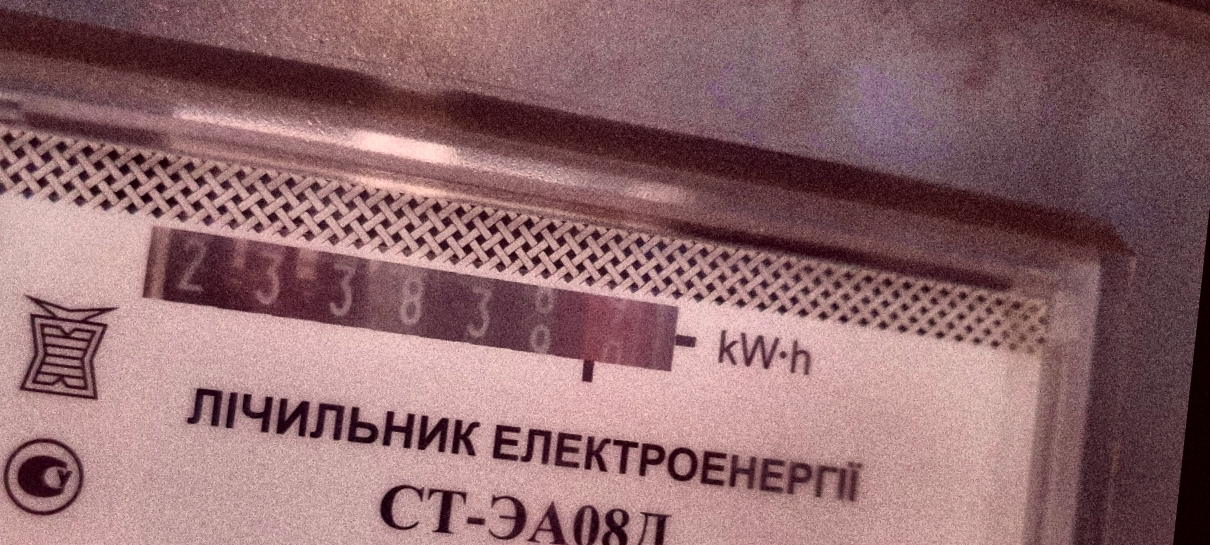0: (597, 334, 626, 370)
2: (170, 231, 215, 296)
3: (319, 255, 362, 322), (252, 246, 285, 307), (463, 280, 497, 339)
8: (391, 267, 431, 329), (531, 281, 560, 315)
9: (599, 290, 633, 332), (524, 319, 556, 358)
screen: (106, 199, 712, 419)
